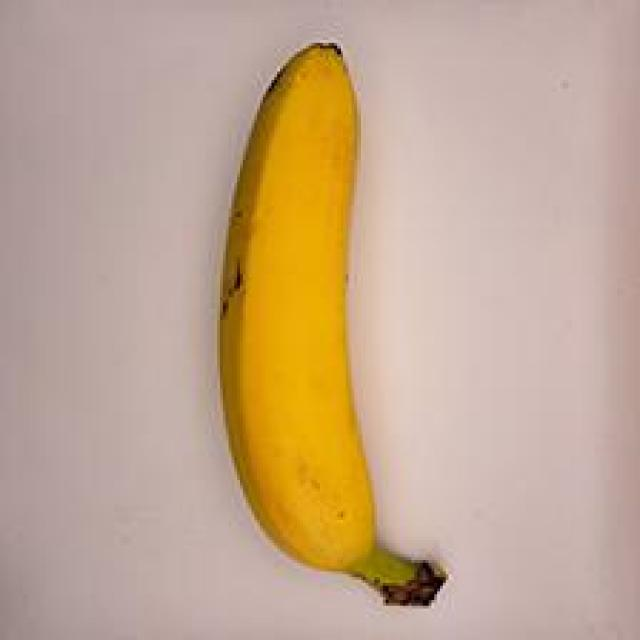Ripe: (176, 18, 500, 630)
